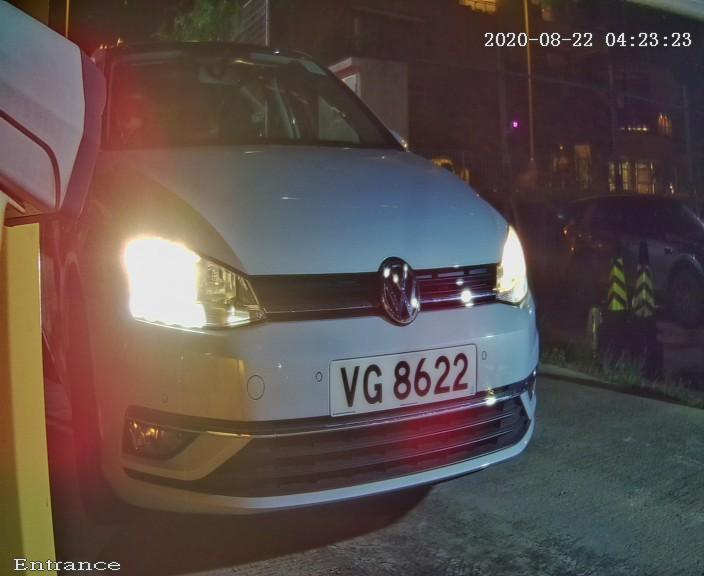Car: (7, 11, 617, 553)
License Plate: (298, 321, 505, 430)
